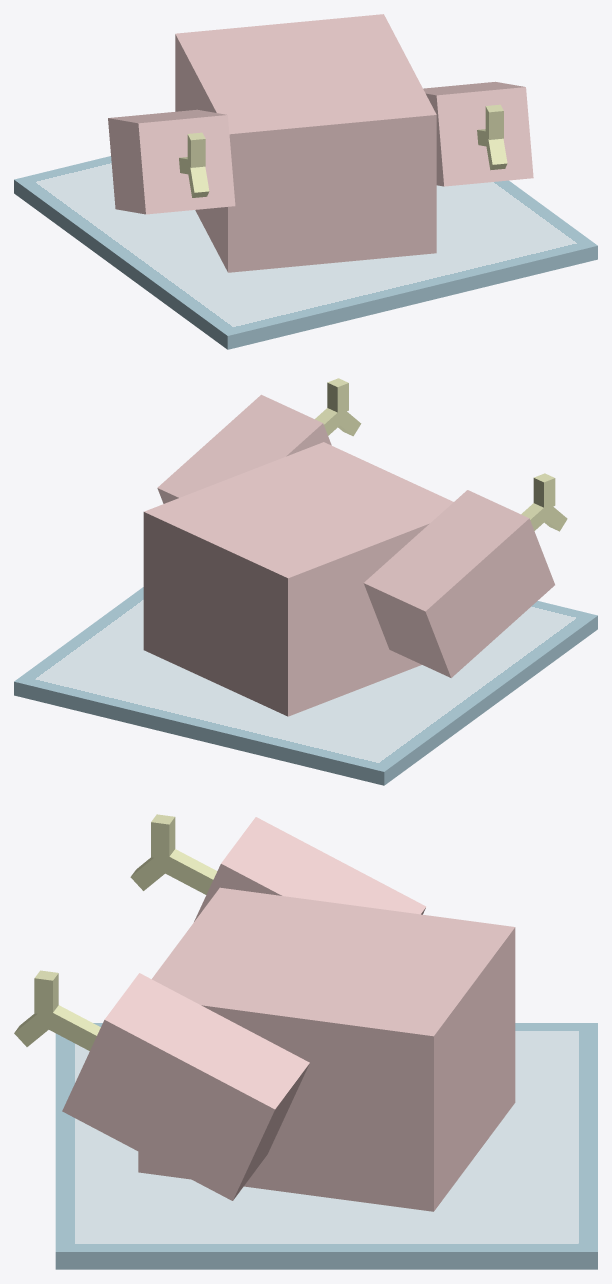
The model's file is defrostedChicken.gltf.
The picture shows the model from 3 angles, top to bottom: view 1: azimuth 30°, elevation 25°; view 2: azimuth 150°, elevation 25°; view 3: azimuth 270°, elevation 25°; orthographic projection. The views are drawn at different scales.
Visible parts, largest first — view 1: chicken, mesh, wing1, wing2; view 2: chicken, mesh, wing1, wing2; view 3: chicken, mesh, wing2, wing1.
Boxes of the visible parts, x1=… form: chicken: x1=175, y1=14, x2=436, y2=272; mesh: x1=14, y1=156, x2=597, y2=349; wing1: x1=108, y1=109, x2=235, y2=214; wing2: x1=423, y1=81, x2=533, y2=186; chicken: x1=143, y1=442, x2=453, y2=716; mesh: x1=14, y1=587, x2=597, y2=785; wing1: x1=363, y1=473, x2=567, y2=677; wing2: x1=157, y1=378, x2=361, y2=503; chicken: x1=138, y1=887, x2=515, y2=1211; mesh: x1=55, y1=1023, x2=597, y2=1269; wing2: x1=14, y1=970, x2=309, y2=1200; wing1: x1=130, y1=814, x2=426, y2=921.
Size of the model in its own units: 1.84 by 0.8117 by 1.88.
1 material, 1 textured.
